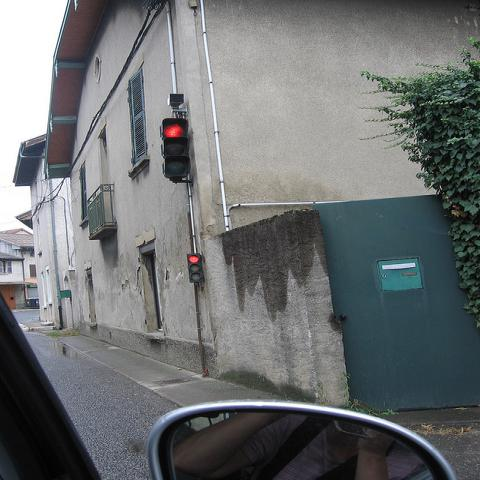car: (0, 275, 455, 479)
